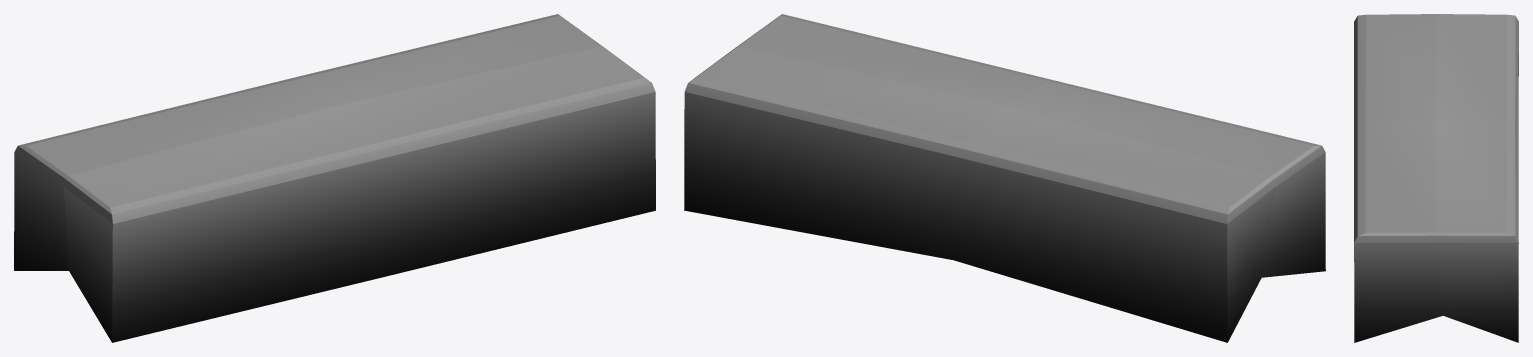
The model's file is SM_Tablecloth_Black.fbx.
3 renders of one model, left to right at view 1: azimuth 30°, elevation 25°; view 2: azimuth 150°, elevation 25°; view 3: azimuth 270°, elevation 25°, orthographic. The views are drawn at different scales.
Visible parts, largest first — view 1: Tablecloth_Black_mash; view 2: Tablecloth_Black_mash; view 3: Tablecloth_Black_mash.
Part boxes in pixels (box(x1,y1,x2,y2)): Tablecloth_Black_mash: box(14, 14, 655, 342); Tablecloth_Black_mash: box(684, 14, 1325, 342); Tablecloth_Black_mash: box(1354, 14, 1518, 342).
Size of the model in its own units: 2.03 by 0.481 by 0.6358.
